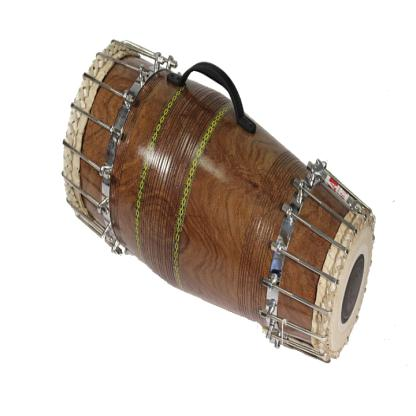Mridangam: (54, 21, 388, 371)
